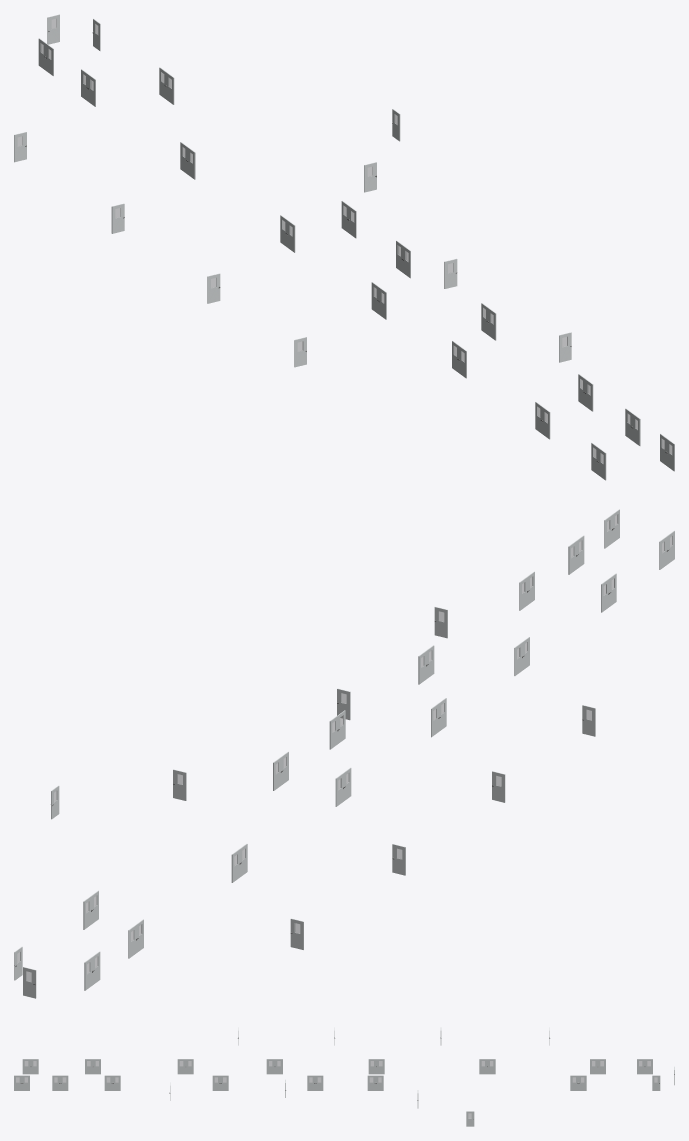
The picture shows the model from 3 angles, top to bottom: view 1: azimuth 30°, elevation 25°; view 2: azimuth 150°, elevation 25°; view 3: azimuth 270°, elevation 25°; orthographic projection. The views are drawn at different scales.
Bounding box in the file's own units: 24469 × 2037 × 80858.
